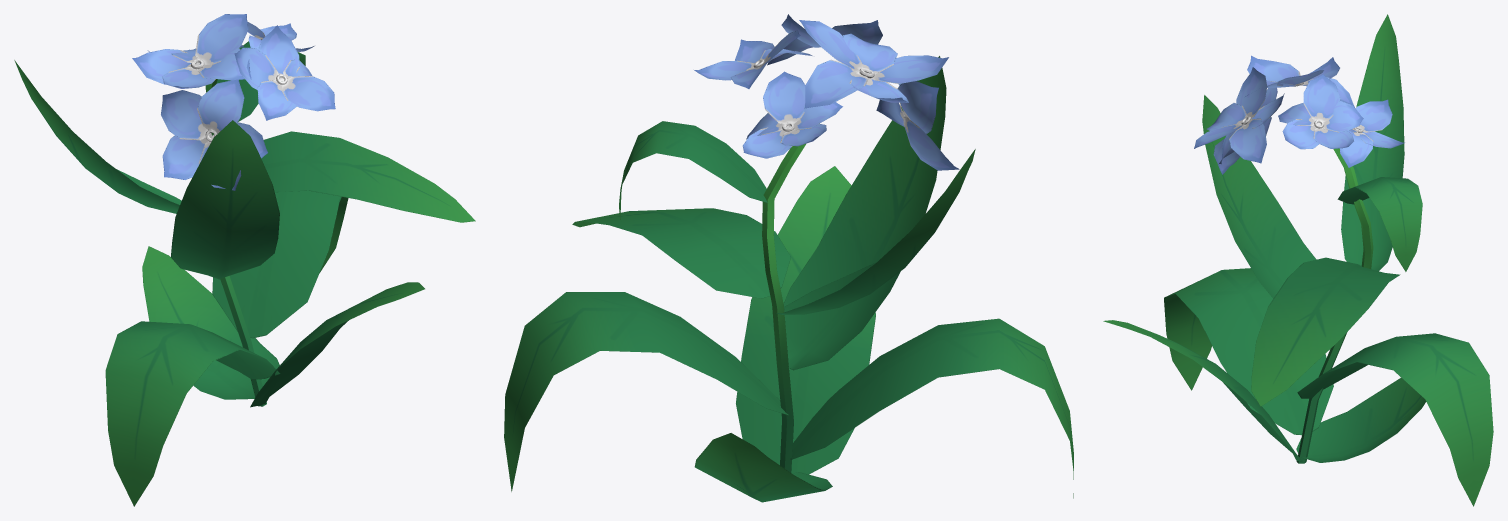
The model's file is SM_Myosotis3.fbx.
3 renders of one model, left to right at view 1: azimuth 30°, elevation 25°; view 2: azimuth 150°, elevation 25°; view 3: azimuth 270°, elevation 25°, orthographic. The views are drawn at different scales.
Parts seen in each view (by area): view 1: Myosotis_Feuille_11; view 2: Myosotis_Feuille_11; view 3: Myosotis_Feuille_11.
Part boxes in pixels (left/top/right/bottom): Myosotis_Feuille_11: left=14, top=14, right=475, bottom=506; Myosotis_Feuille_11: left=504, top=14, right=1073, bottom=502; Myosotis_Feuille_11: left=1103, top=14, right=1493, bottom=506.
Bounding box in the file's own units: 43.1 × 37.9 × 42.41.
1 material, 1 textured.
